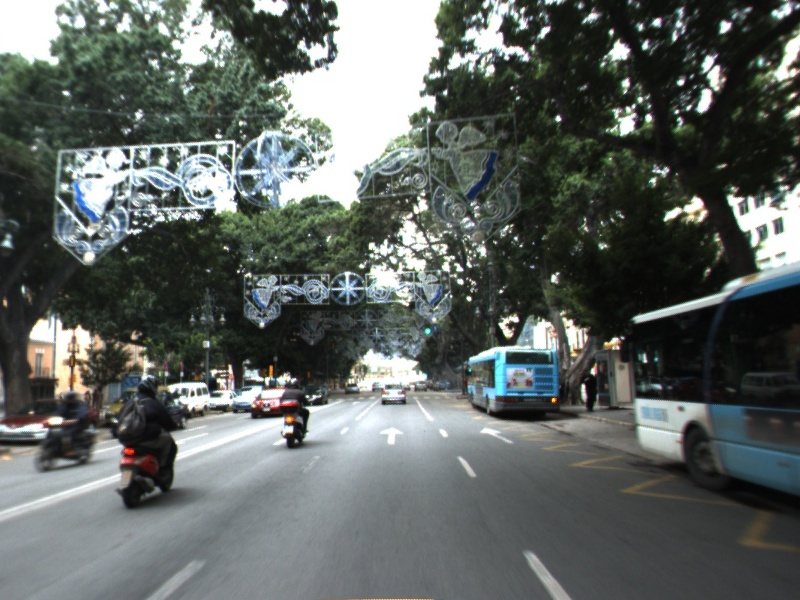STRAIGHT: (477, 425, 517, 445), (377, 425, 406, 446)
